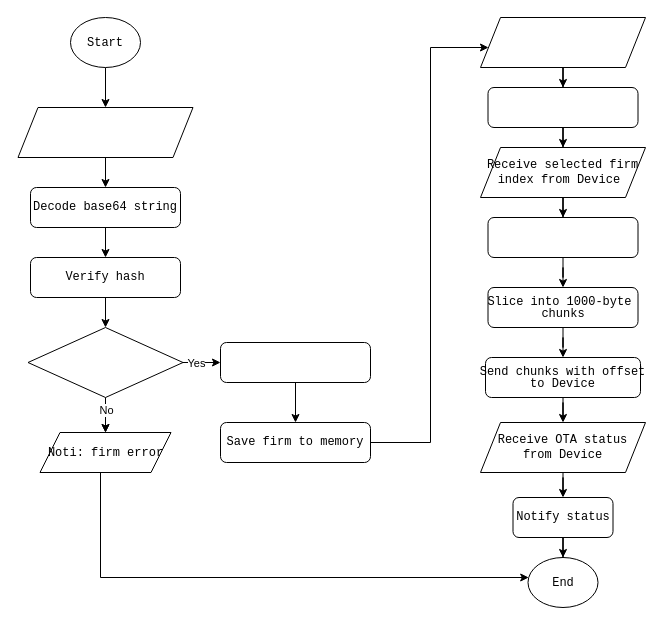
Image size: 663x625. Some labels were removed from this diagram. The shapes that lost their labels are listed below. From the top down, each one's box as (x1, y1, x2, y2) in pixels, then its label:
(480, 16, 646, 68): Receive Request to Activate new firm
(487, 86, 638, 128): Send files' sizes to Device
(17, 106, 193, 158): Receive Firmware file (base64 string)
(487, 216, 638, 258): Retrieve selected firm from memory
(27, 326, 183, 398): Valid data
(220, 342, 370, 382): Separate firm file 1 & 2
